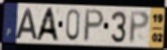0: (66, 8, 82, 43)
3: (110, 10, 128, 44)
A: (33, 7, 60, 43), (14, 7, 38, 40)
P: (82, 8, 106, 43), (128, 10, 151, 45)
